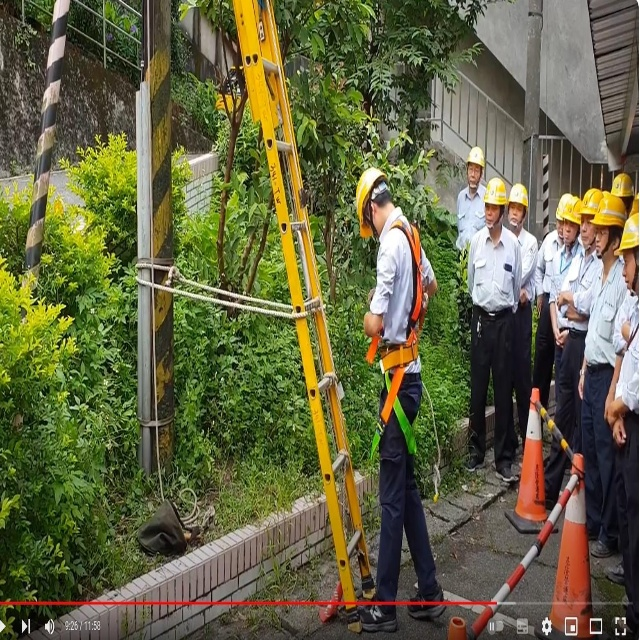Arnes_seguridad: (369, 217, 422, 463)
